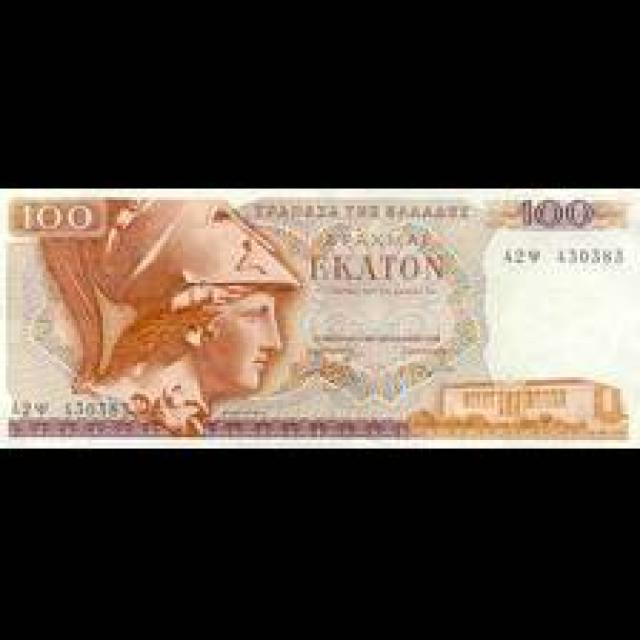banknote: (0, 186, 636, 448), (506, 192, 606, 238), (8, 193, 97, 237)
